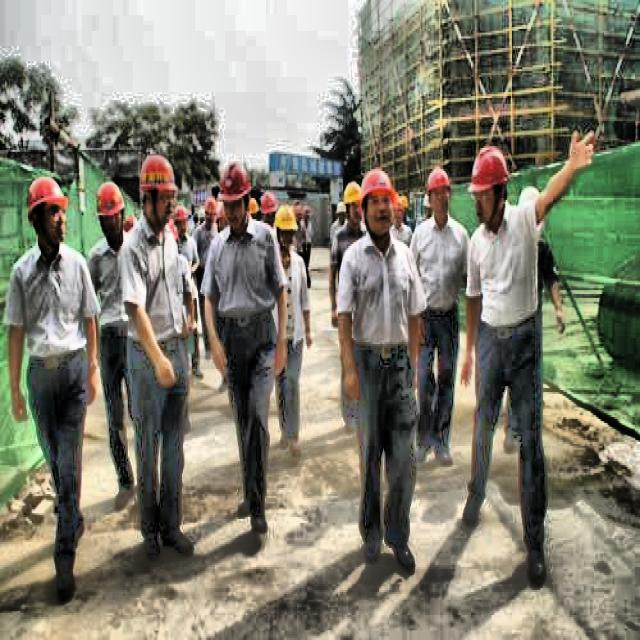helmet: (26, 175, 68, 254), (362, 166, 402, 240), (471, 144, 509, 221), (140, 150, 176, 227), (219, 160, 248, 230), (96, 177, 128, 240), (423, 161, 453, 221), (340, 177, 365, 234), (275, 204, 301, 258), (260, 184, 275, 234), (174, 200, 192, 240), (201, 198, 220, 231)
